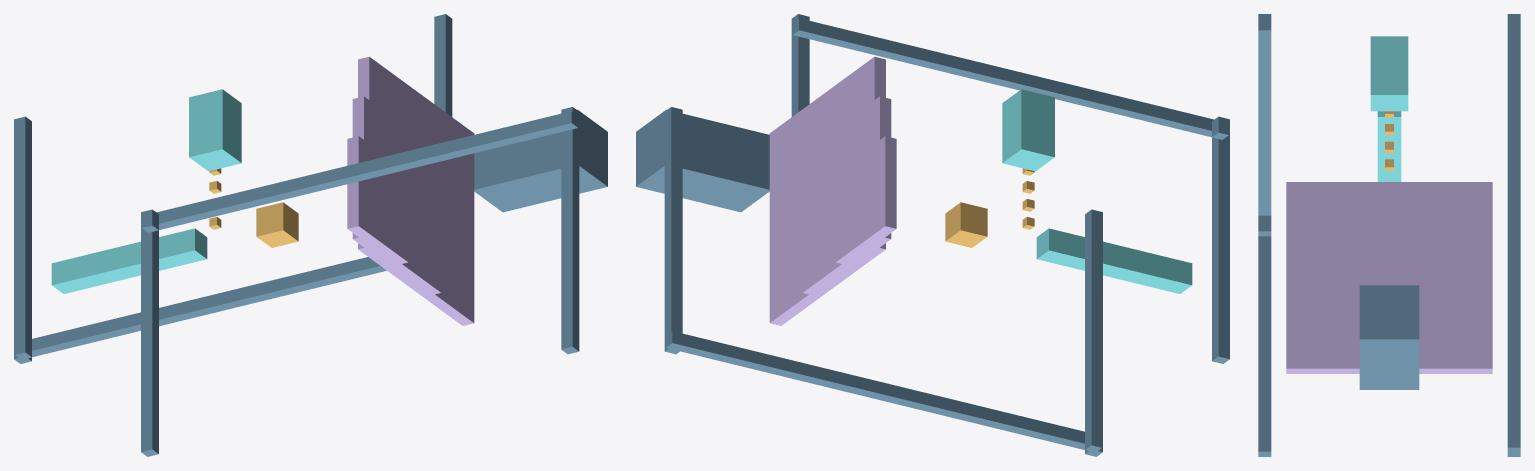
The model's file is euv-source-collector-concept.gltf.
3 renders of one model, left to right at view 1: azimuth 30°, elevation 25°; view 2: azimuth 150°, elevation 25°; view 3: azimuth 270°, elevation 25°, orthographic.
Parts seen in each view (by area): view 1: collector1, beamTop, focusTube, collector2, beamBottom, collector3, laserInput, frameD, frameB, frameA, dropletGen, frameC (+1 smaller); view 2: collector1, focusTube, beamTop, beamBottom, collector2, collector3, laserInput, frameC, frameA, frameB, dropletGen, frameD (+1 smaller); view 3: collector1, focusTube, frameC, frameD, dropletGen, beamTop, frameA, laserInput.
Part boxes in pixels (x1,y1,x2,y2): collector1: (358,56,474,325); beamTop: (142,111,578,232); focusTube: (474,109,607,212); collector2: (352,96,441,295); beamBottom: (15,257,386,359); collector3: (347,136,408,264); laserInput: (51,228,207,293); frameD: (561,107,579,354); frameB: (141,209,158,456); frameA: (14,116,31,363); dropletGen: (189,89,241,171); frameC: (434,14,452,116); collector1: (769,56,885,325); focusTube: (636,109,769,212); beamTop: (792,18,1228,139); beamBottom: (665,331,1101,452); collector2: (802,96,891,295); collector3: (835,136,896,264); laserInput: (1036,228,1192,293); frameC: (664,107,682,354); frameA: (1085,209,1102,456); frameB: (1212,116,1229,363); dropletGen: (1002,89,1054,171); frameD: (791,14,809,116); collector1: (1286,182,1492,373); focusTube: (1359,285,1419,389); frameC: (1507,215,1520,456); frameD: (1258,215,1271,456); dropletGen: (1370,36,1408,111); beamTop: (1258,18,1271,236); frameA: (1507,14,1520,215); laserInput: (1377,111,1401,181).
Size of the model in its own units: 5.6 by 2.75 by 2.42.
